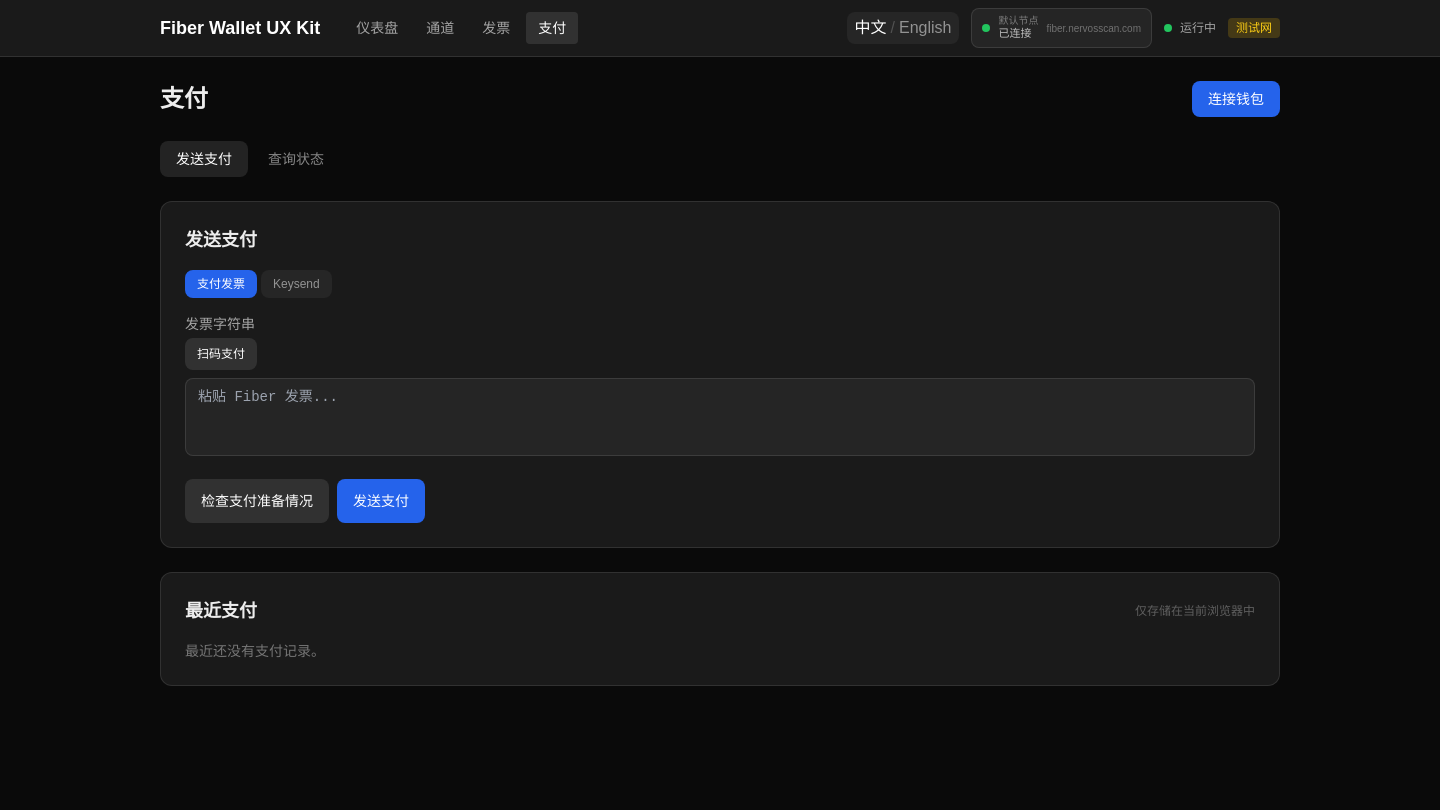
Test: Invoices and Payments pages › renders localized zh payments headings through the real locale layout
Expected: the heading "支付" is shown, [160, 83, 208, 115]
Expected: the heading "发送支付" is shown, [185, 230, 257, 250]
Click the button "查询状态" at point(296, 159), box [252, 141, 340, 177]
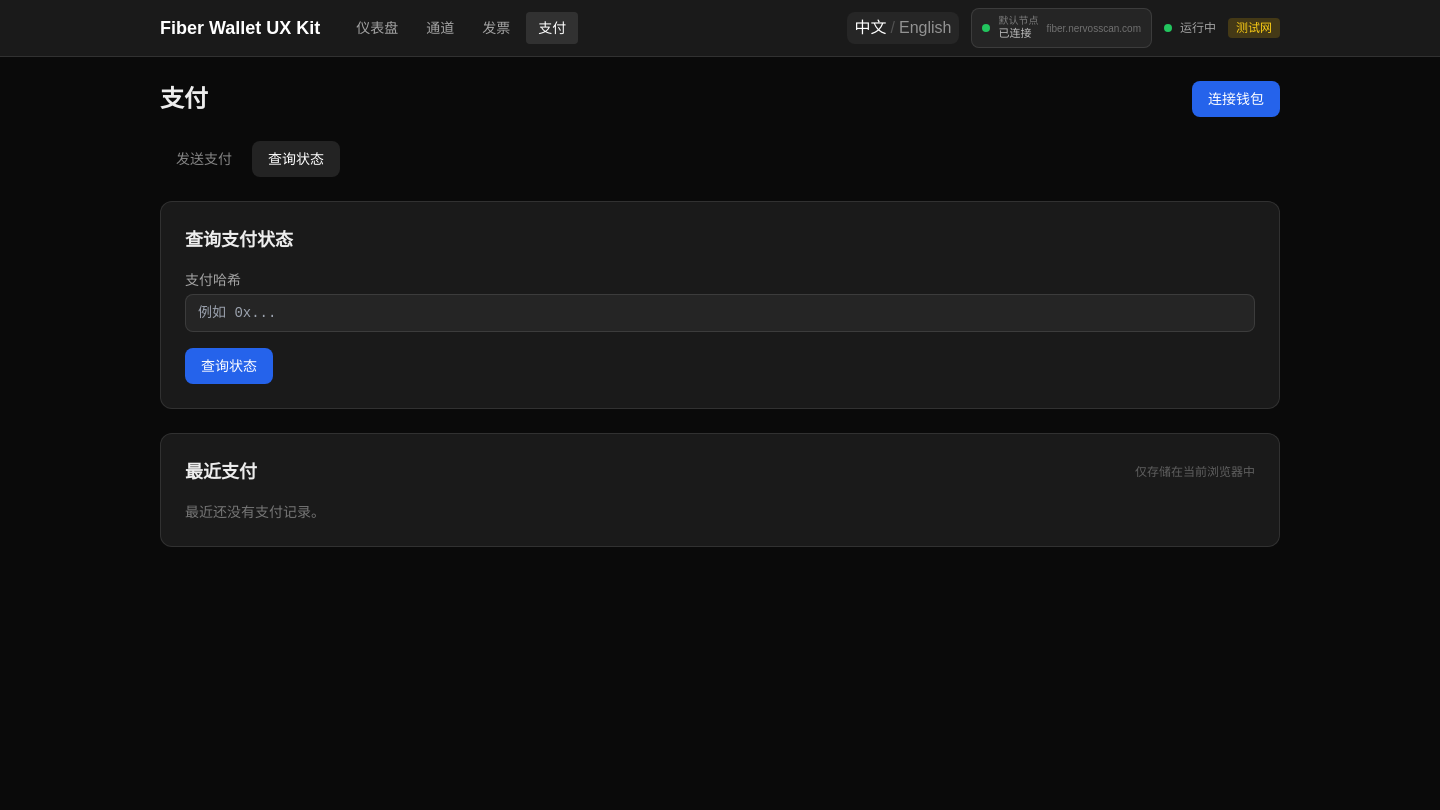
Expected: the field with placeholder "例如 0x..." is shown, [185, 294, 1255, 332]
